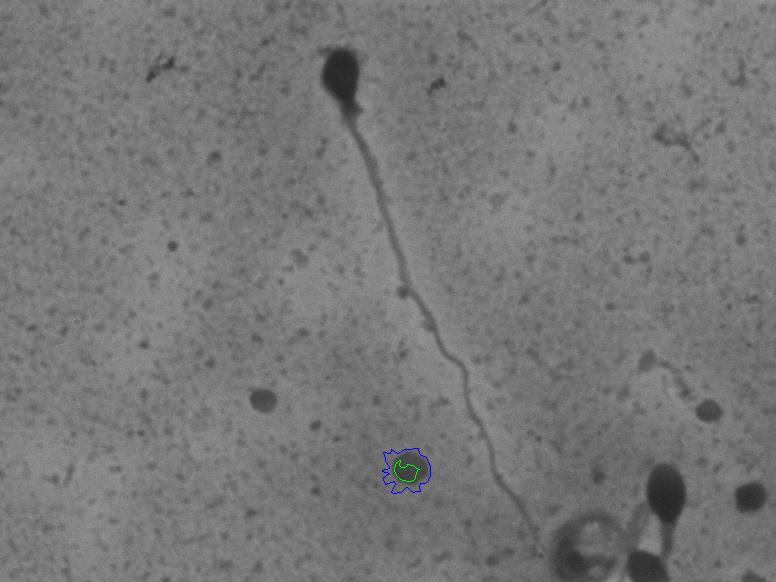Abnormal: (285, 38, 550, 532)
